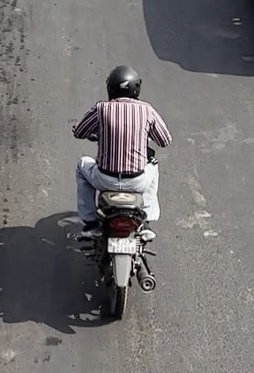BikeWithRider: (71, 62, 173, 323)
Helmet: (106, 63, 144, 103)
